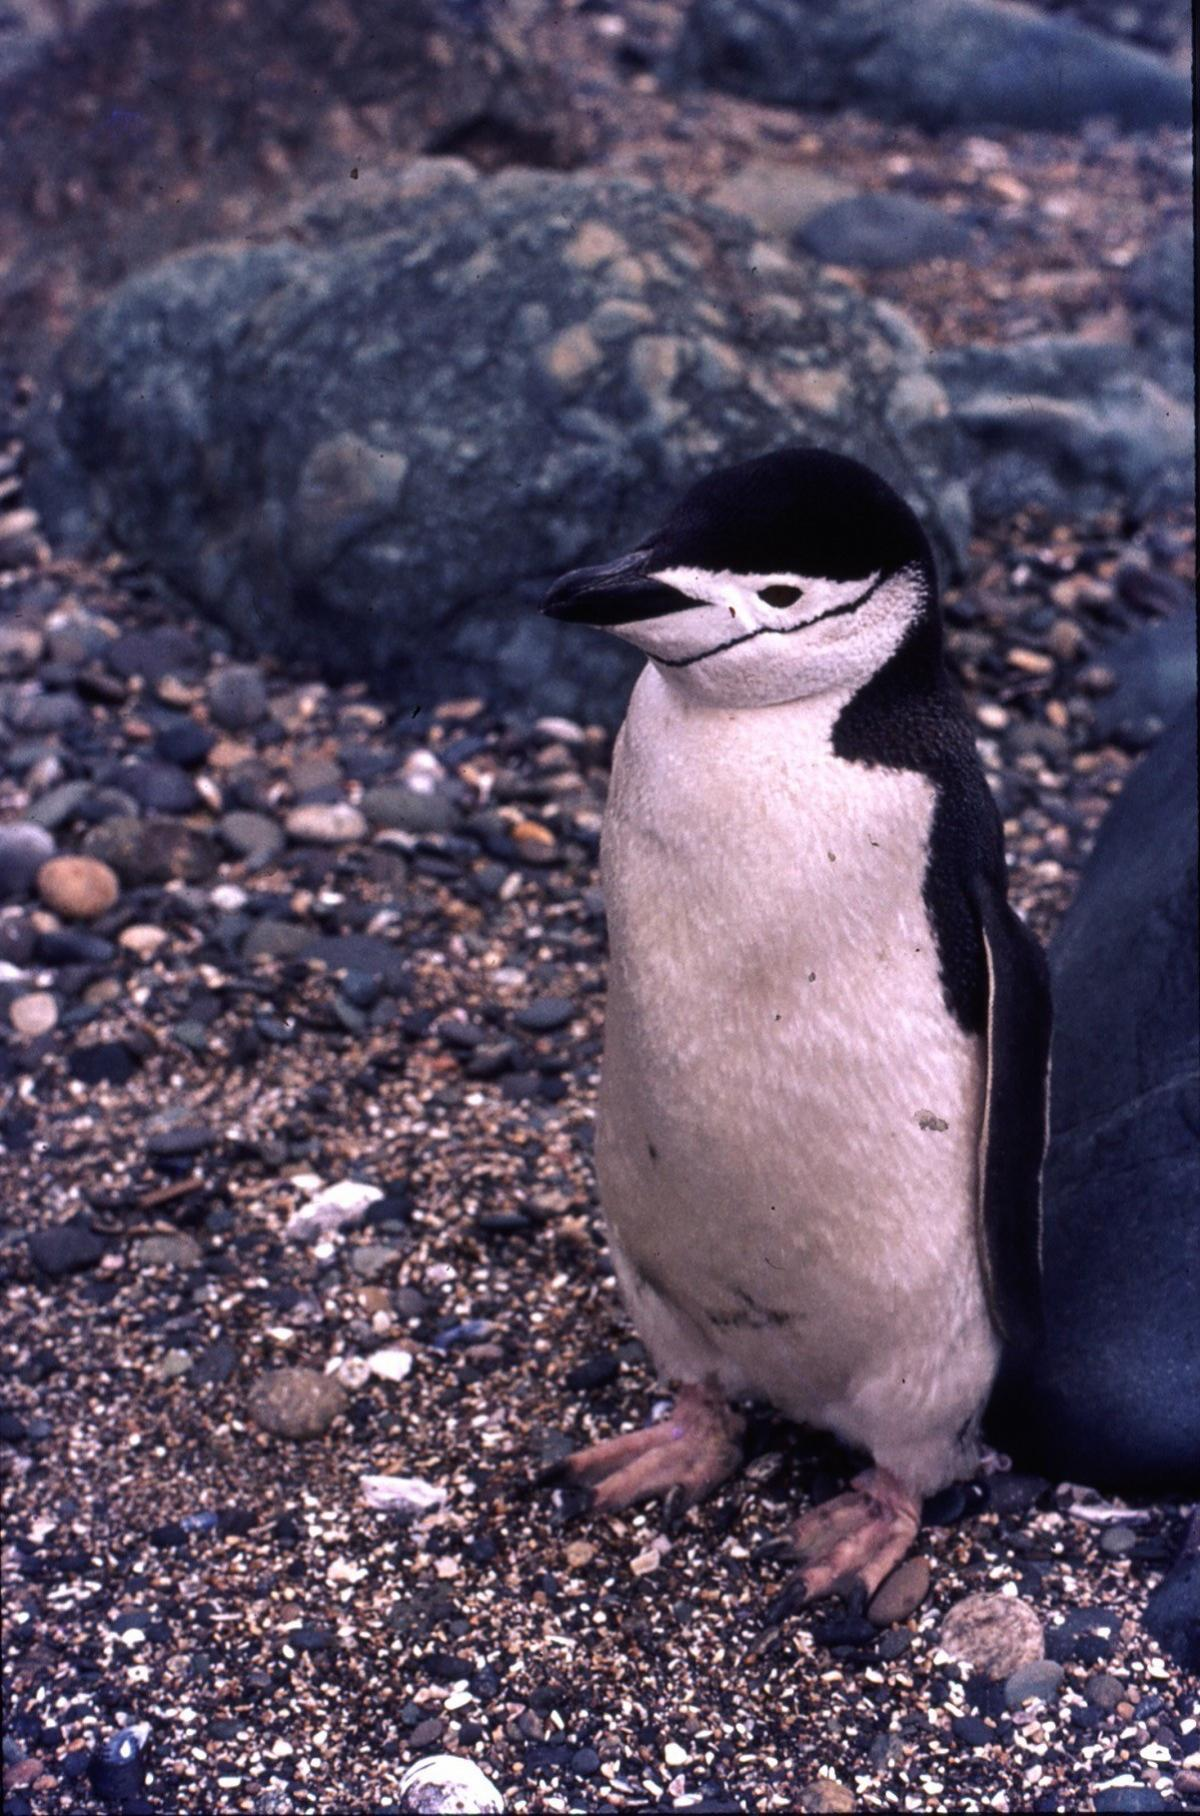chinstrap: (408, 474, 1141, 1524)
